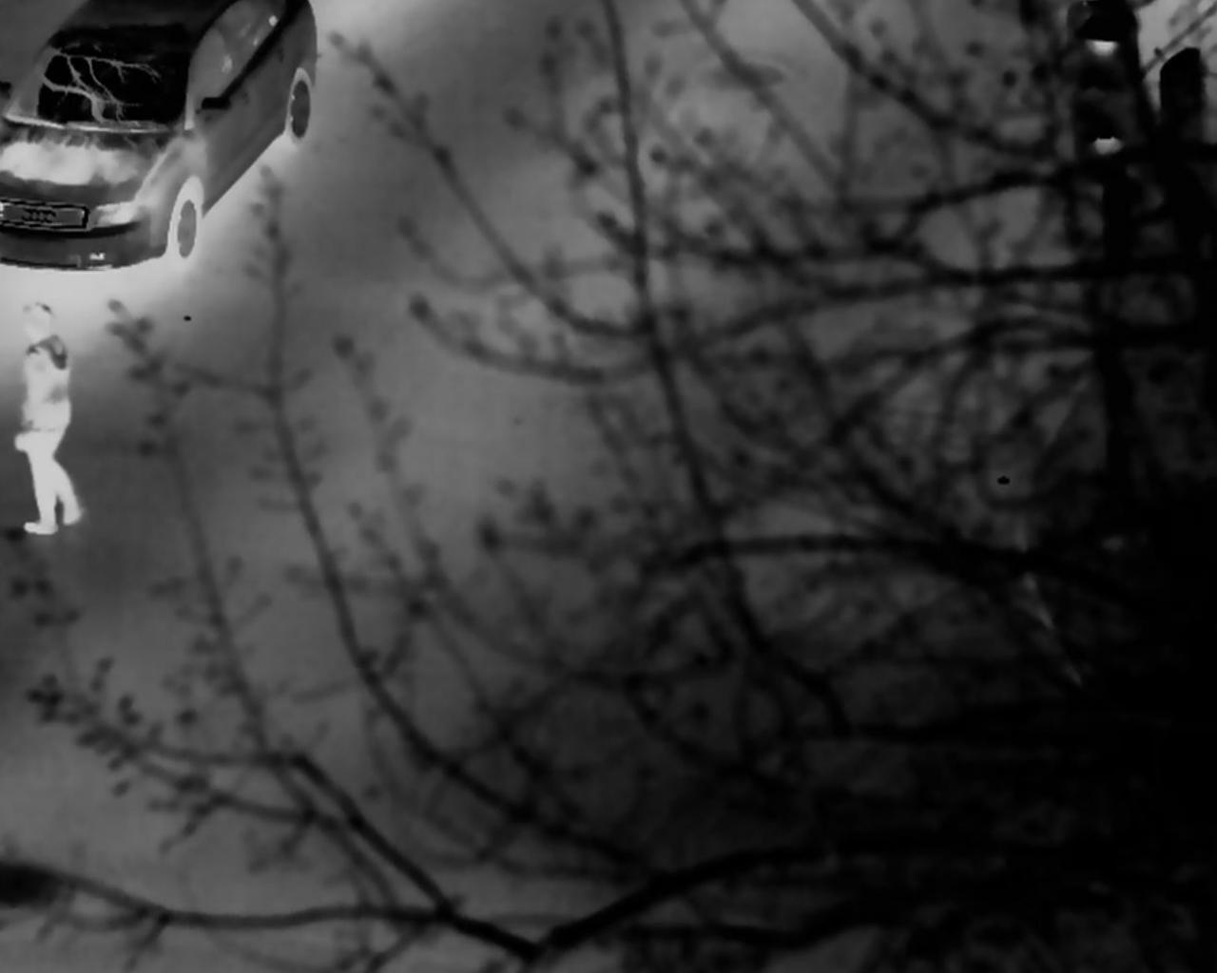person: (5, 297, 87, 529)
